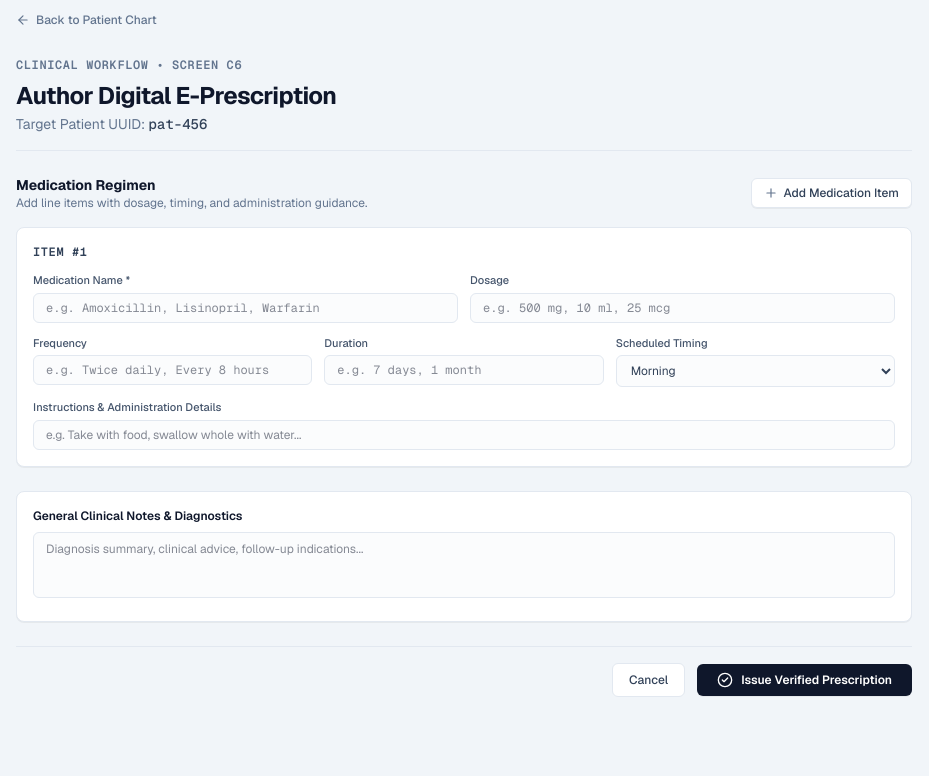
Test: DigitalPrescribe Component (Screen C6) › adds and removes drug items dynamically
Check: the text "Item #1" is shown, box [33,244,88,260]
Check: the text "Item #2" is not shown
Note: Add another drug
Step 1. Click the button "Add Medication Item" → (831, 193), box [750,178,912,208]
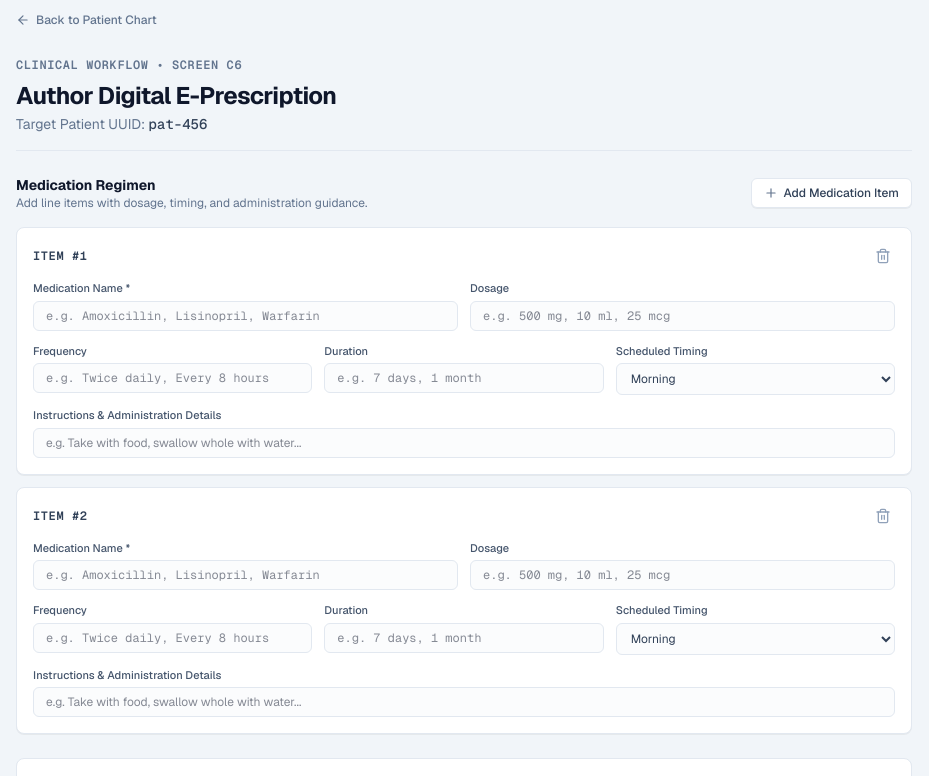
Check: the text "Item #1" is shown, box [33,248,88,264]
Check: the text "Item #2" is shown, box [33,508,88,524]
Note: Remove drug #2
Step 2. Click the 1st button titled "Remove medication" → (883, 256), box [871,244,895,268]
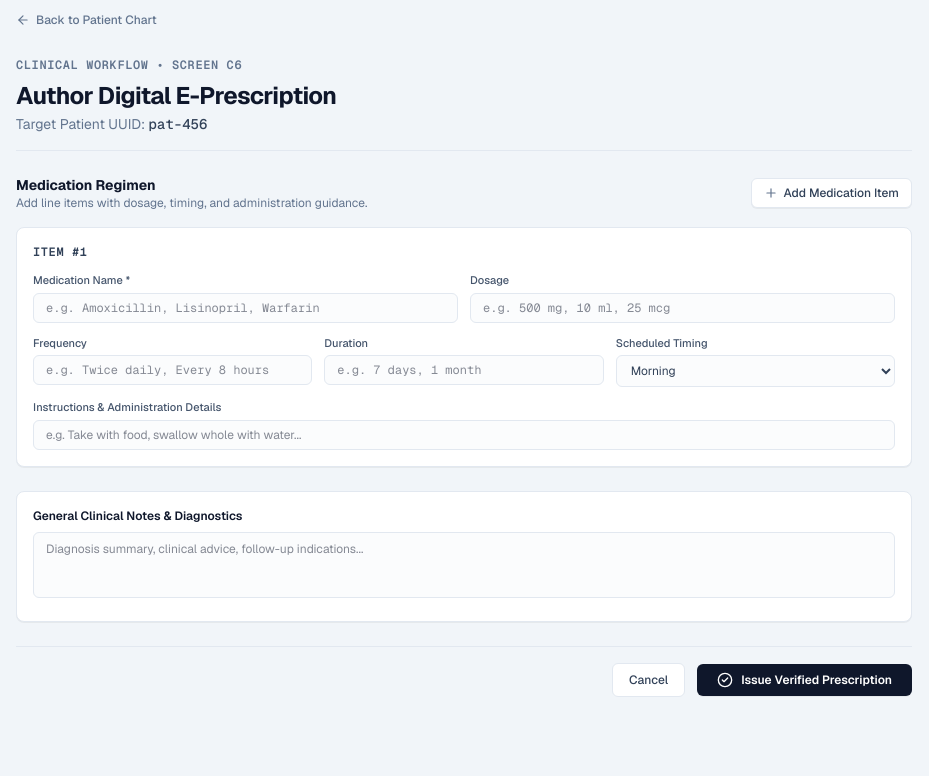
Check: the text "Item #2" is gone
